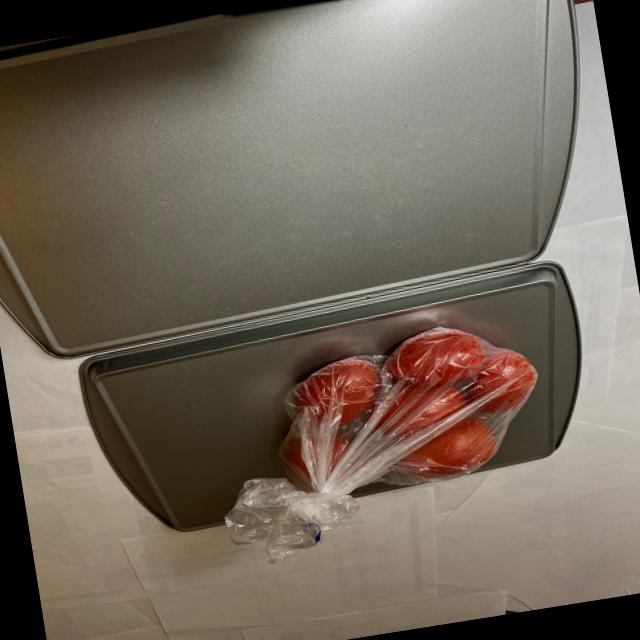tomato: (244, 312, 560, 526)
